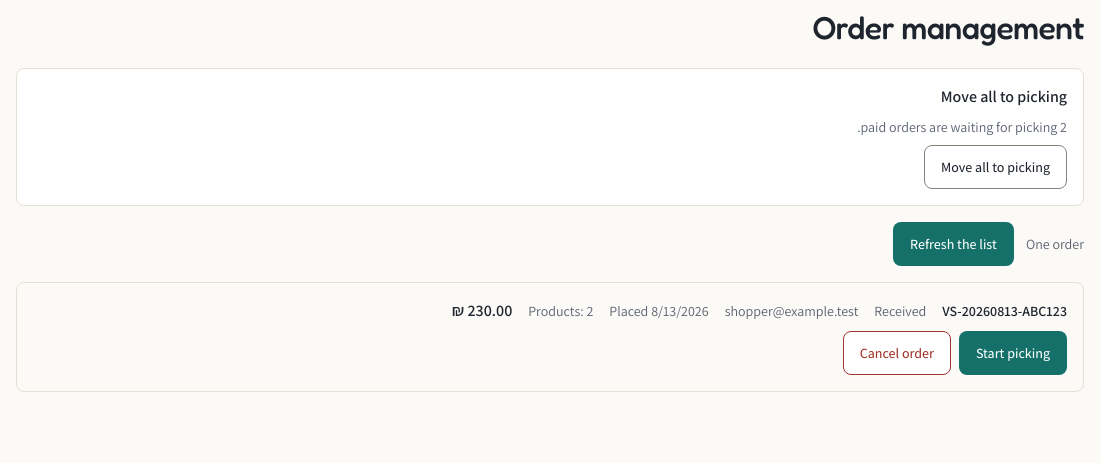
it: the list › 2026-09-06: the bulk "move all to picking" control — offered only when paid orders exist, asks first, POSTs once, reports, and the report stays on screen after
Click the button "Move all to picking". click: (996, 167)
box: [924,145,1067,189]
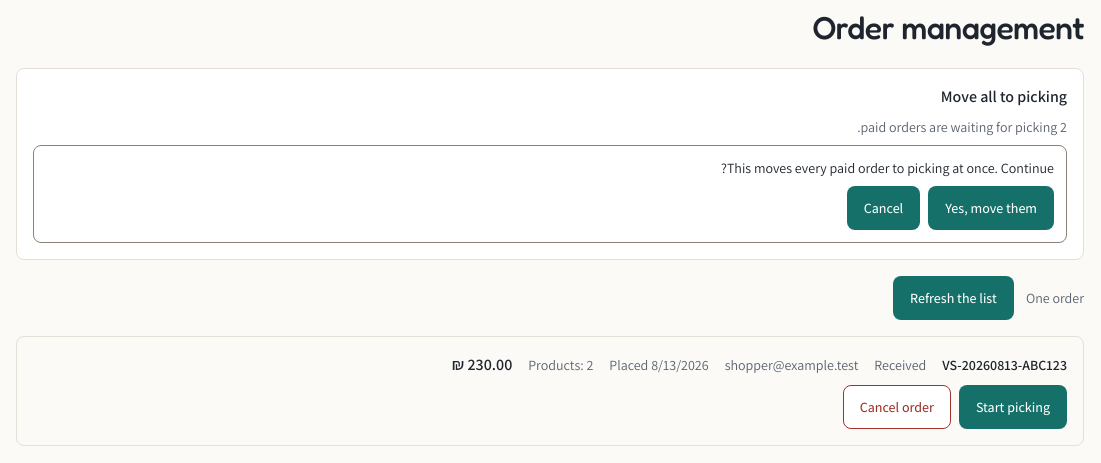
Expected: the text "This moves every paid order to picking at once. Continue?" is shown, [721,159,1054,177]
Click the button "Yes, move them". click: (991, 208)
box: [928,186,1054,230]
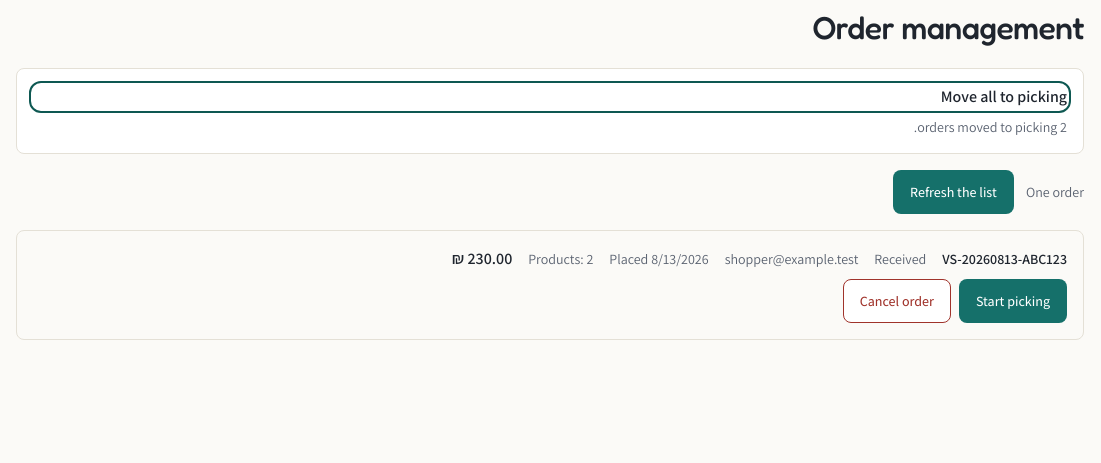
Expected: the text "2 paid orders are waiting" is gone
